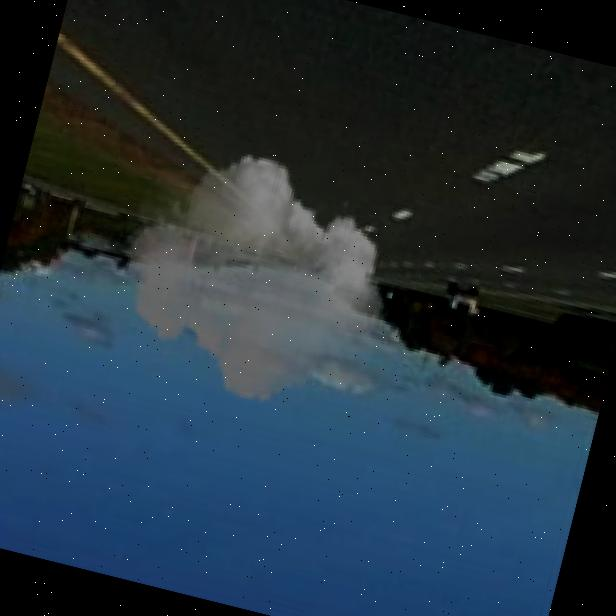smoke: (91, 119, 420, 438)
